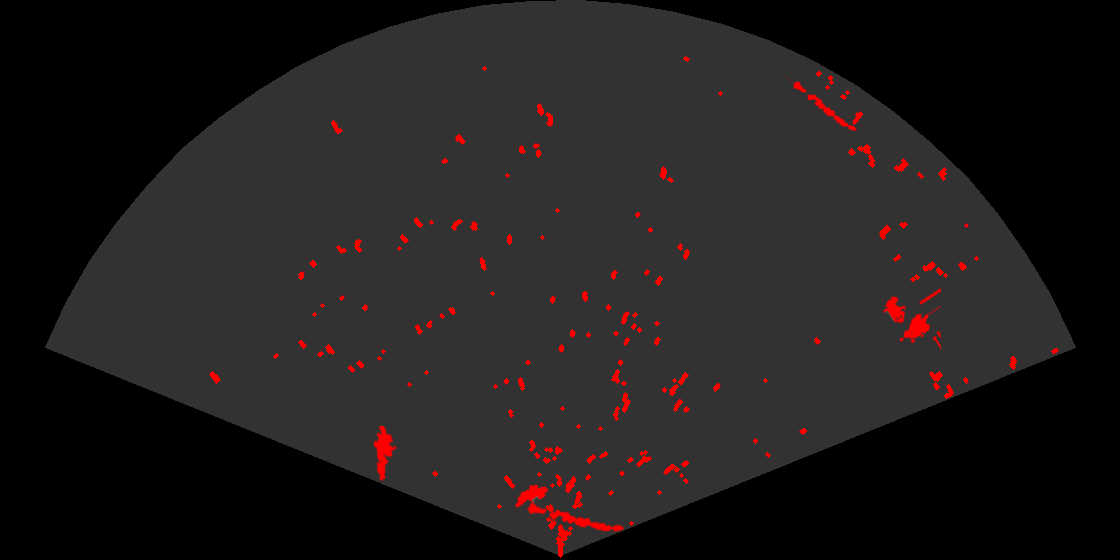AUV: (513, 483, 550, 509)
cage: (881, 286, 941, 351)
chain: (782, 75, 858, 133), (520, 502, 626, 534)
frogman: (372, 426, 398, 483)
